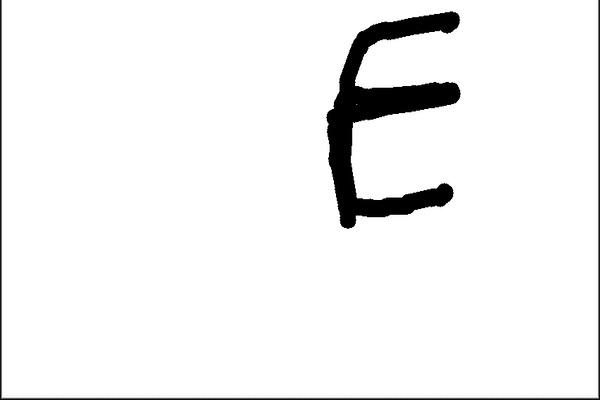E: (321, 7, 459, 229)
